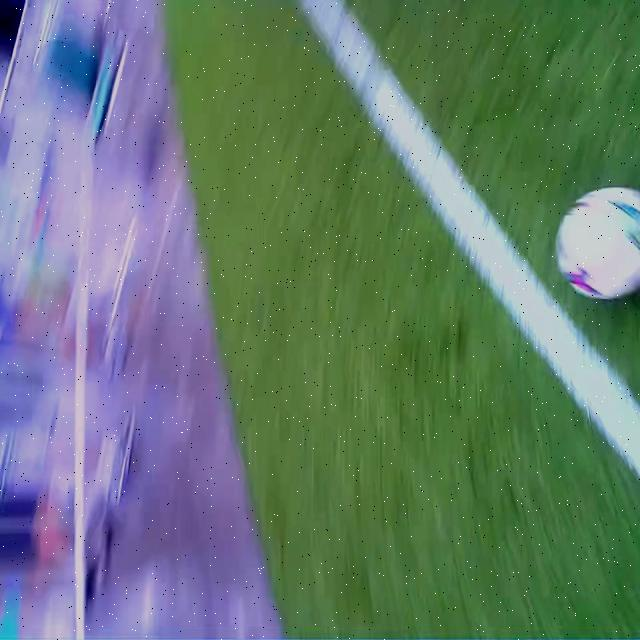ball: (557, 188, 638, 305)
